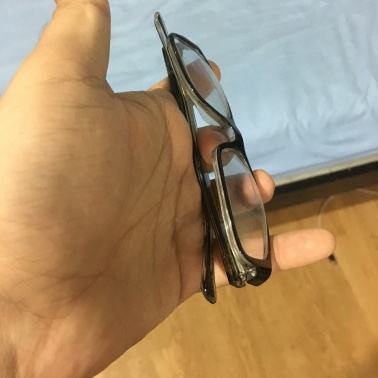glasses: (123, 17, 328, 324)
